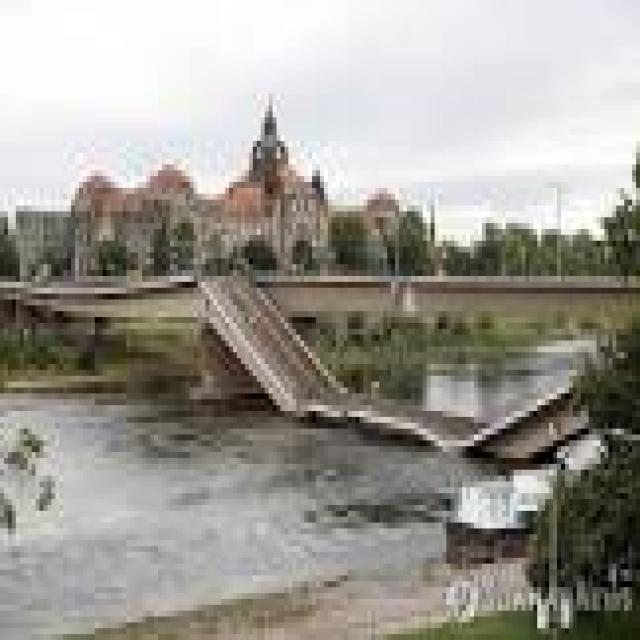bridge collapse: (79, 134, 640, 640)
